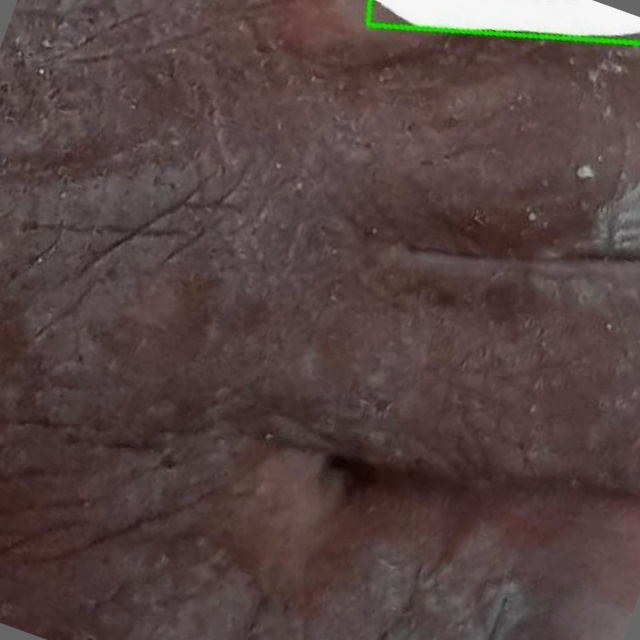Eczema: (367, 0, 639, 43)
